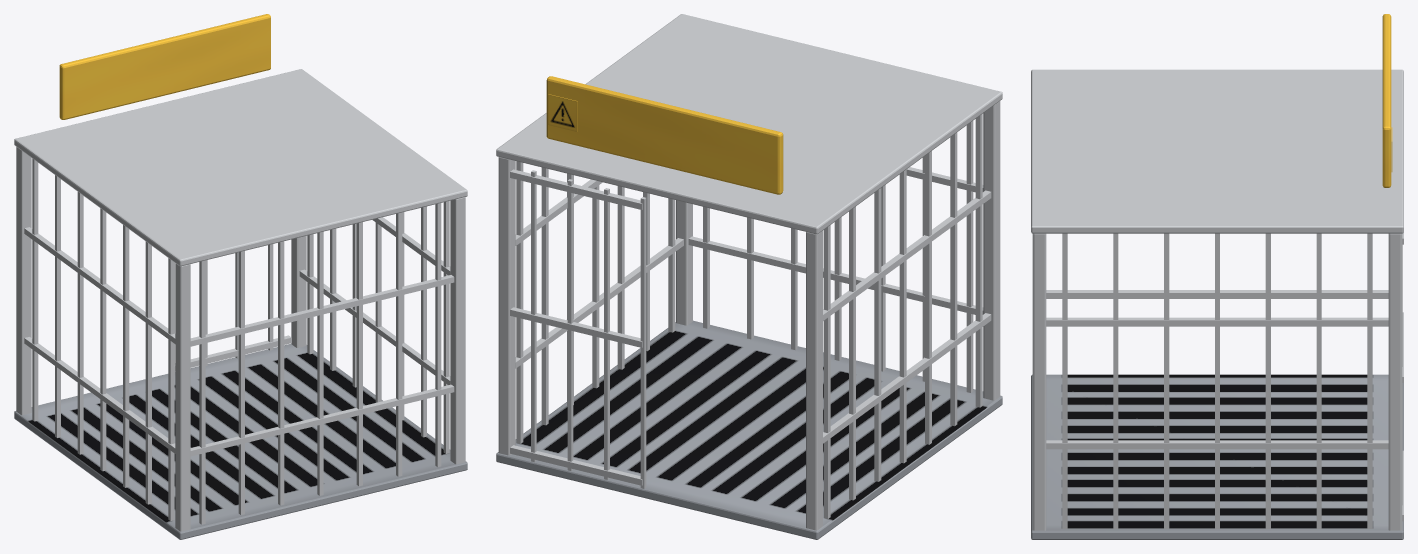
File: Cage.glb
3 views of the same model, side by side, from view 1: azimuth 30°, elevation 25°; view 2: azimuth 150°, elevation 25°; view 3: azimuth 270°, elevation 25° (orthographic). The views are drawn at different scales.
Visible parts, largest first — view 1: Frame, Sign, Door; view 2: Frame, Sign, Door; view 3: Frame, Sign, Door.
Part boxes in pixels (bbox=[...]): Frame: bbox=[14, 69, 467, 539]; Sign: bbox=[59, 14, 270, 119]; Door: bbox=[174, 244, 291, 373]; Frame: bbox=[496, 14, 1002, 539]; Sign: bbox=[546, 76, 783, 194]; Door: bbox=[510, 169, 646, 488]; Frame: bbox=[1031, 69, 1403, 539]; Sign: bbox=[1382, 14, 1392, 187]; Door: bbox=[1402, 232, 1403, 521].
Bounding box in the file's own units: 2.2 × 2.55 × 2.2.
2 materials, 1 textured.
